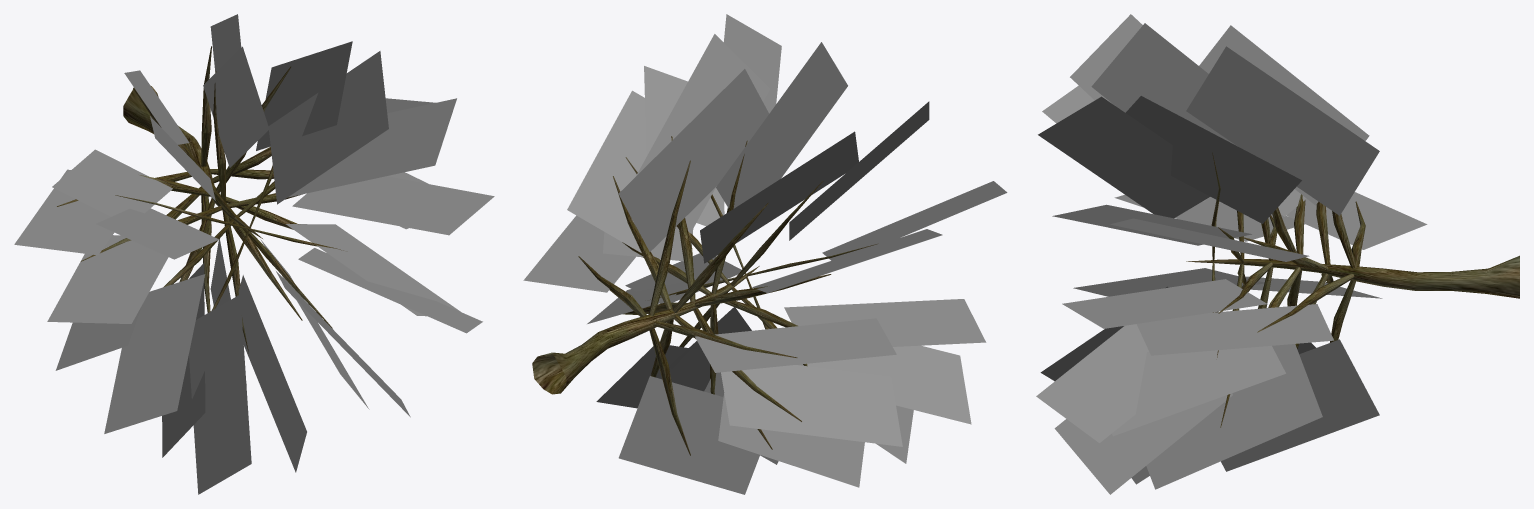
Rendered from great_succ_bb2_e.obj.
3 views of the same model, side by side, from view 1: azimuth 30°, elevation 25°; view 2: azimuth 150°, elevation 25°; view 3: azimuth 270°, elevation 25° (orthographic).
Parts seen in each view (by area): view 1: plant_pmat3, plant_pmat2, plant_pmat1; view 2: plant_pmat3, plant_pmat2, plant_pmat1; view 3: plant_pmat3, plant_pmat2, plant_pmat1.
Boxes of the visible parts, box(x1,y1,x2,y2) form: plant_pmat3: box(14, 14, 494, 494); plant_pmat2: box(57, 46, 343, 353); plant_pmat1: box(123, 86, 262, 238); plant_pmat3: box(523, 14, 1007, 494); plant_pmat2: box(578, 136, 878, 455); plant_pmat1: box(532, 266, 759, 394); plant_pmat3: box(1036, 14, 1427, 494); plant_pmat2: box(1211, 152, 1365, 427); plant_pmat1: box(1186, 255, 1519, 298).
Size of the model in its own units: 3.36 by 3.39 by 3.39.
